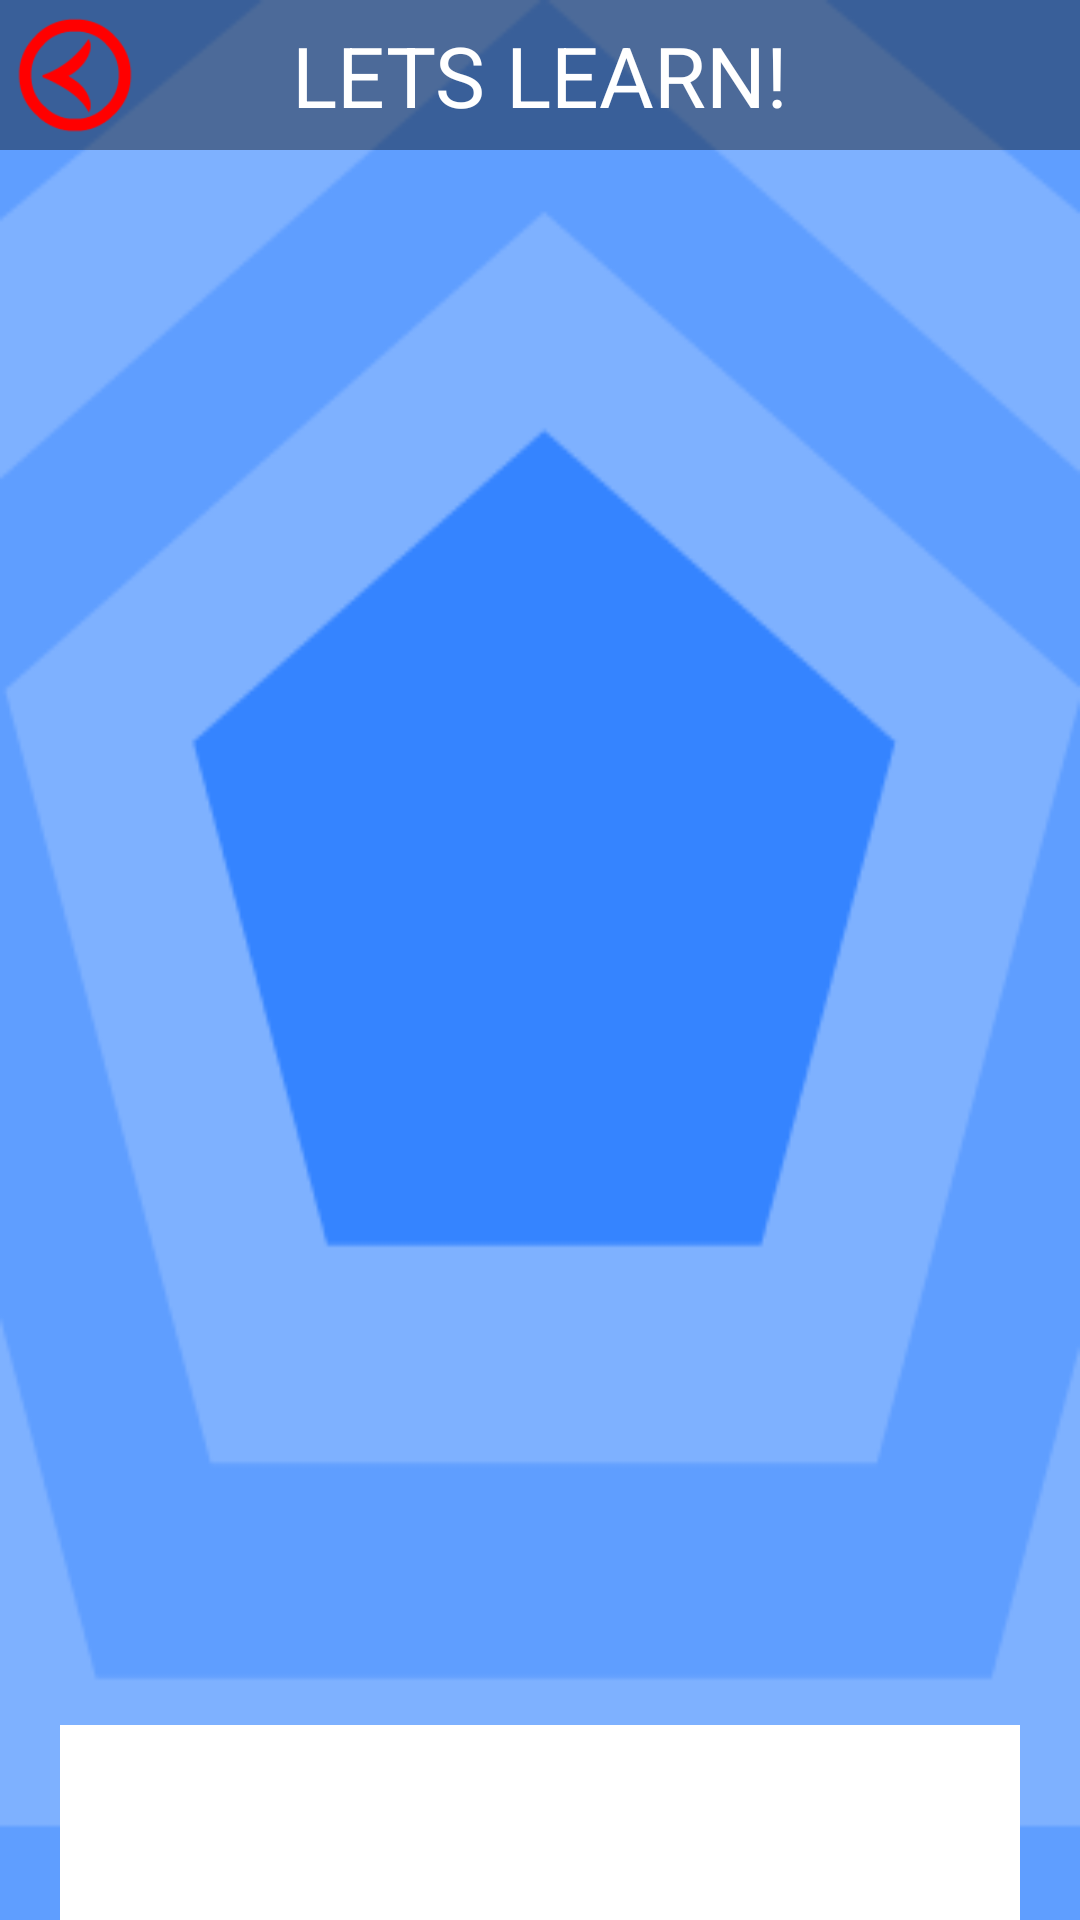

Icons on this 1080w x 1920h Android screen, each with its box as (x1, y1, x2, y2):
arrow back: (18, 19, 132, 132)
